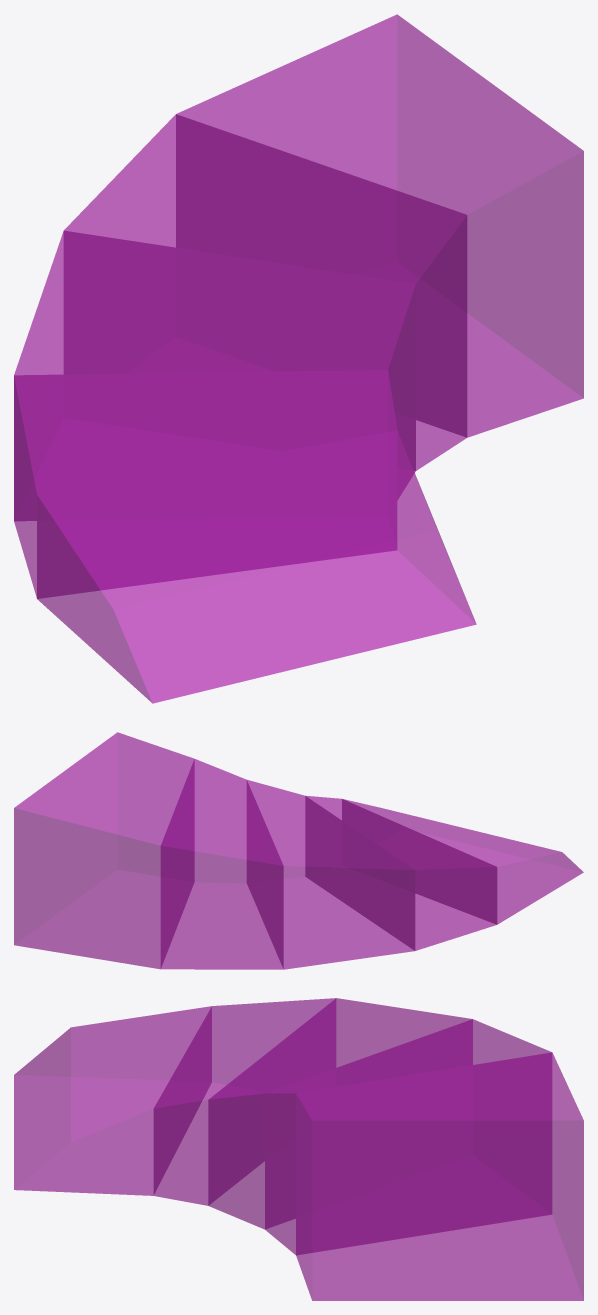
The model's file is SM_Bld_Shrine_Stairs_01_Collision.fbx.
The picture shows the model from 3 angles, top to bottom: view 1: azimuth 30°, elevation 25°; view 2: azimuth 150°, elevation 25°; view 3: azimuth 270°, elevation 25°; orthographic projection. The views are drawn at different scales.
Visible parts, largest first — view 1: SM_Bld_Shrine_Stairs_01_Collision; view 2: SM_Bld_Shrine_Stairs_01_Collision; view 3: SM_Bld_Shrine_Stairs_01_Collision.
Boxes of the visible parts, x1,y1,x2,y2 form: SM_Bld_Shrine_Stairs_01_Collision: [14, 14, 583, 703]; SM_Bld_Shrine_Stairs_01_Collision: [14, 732, 583, 969]; SM_Bld_Shrine_Stairs_01_Collision: [14, 998, 583, 1300].
Bounding box in the file's own units: 505 × 188 × 539.
